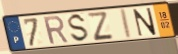7: (23, 17, 40, 47)
I: (120, 8, 134, 41)
N: (132, 7, 158, 38)
R: (42, 14, 71, 46)
S: (67, 12, 91, 43)
Z: (85, 10, 115, 42)
